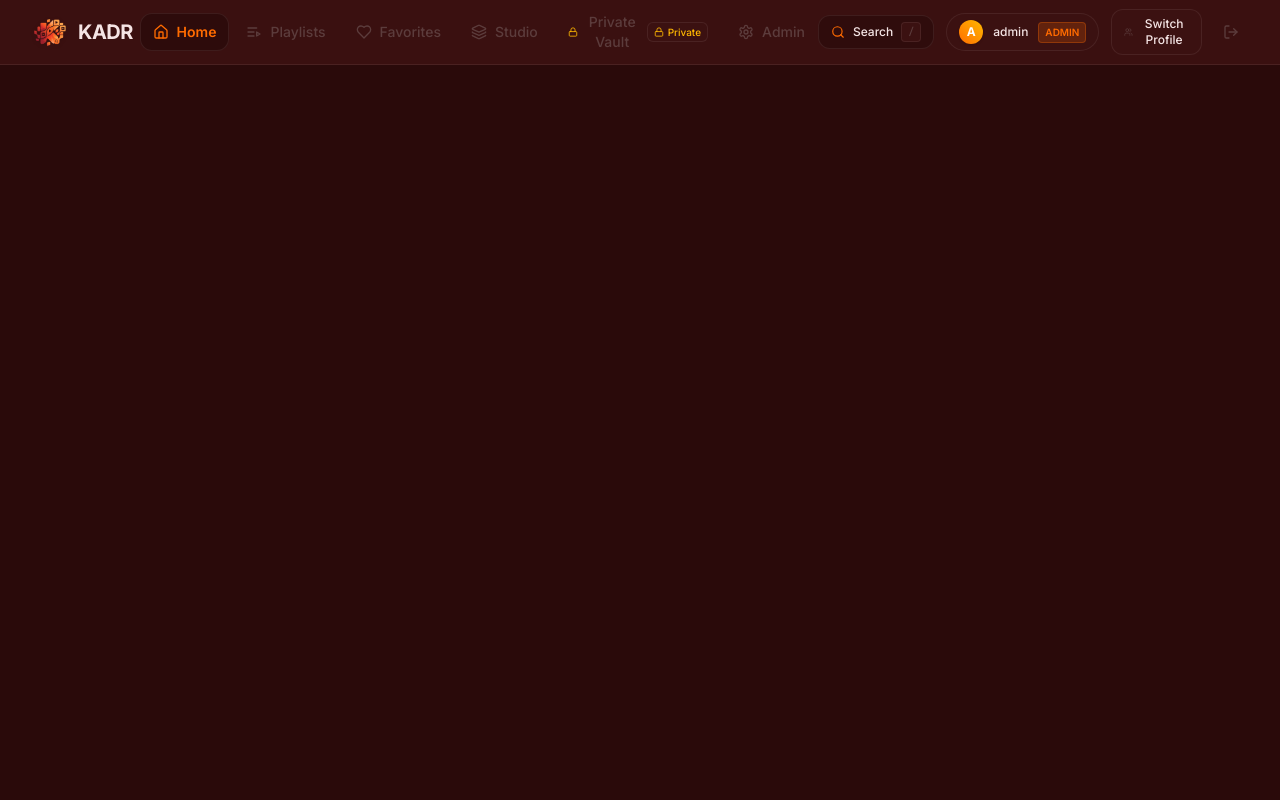
Test: App Shell › unlocks private library with PIN, saves token to session storage, and displays library contents
Click the button "Private Vault Private".
click(638, 32)  # box [555,3,721,61]
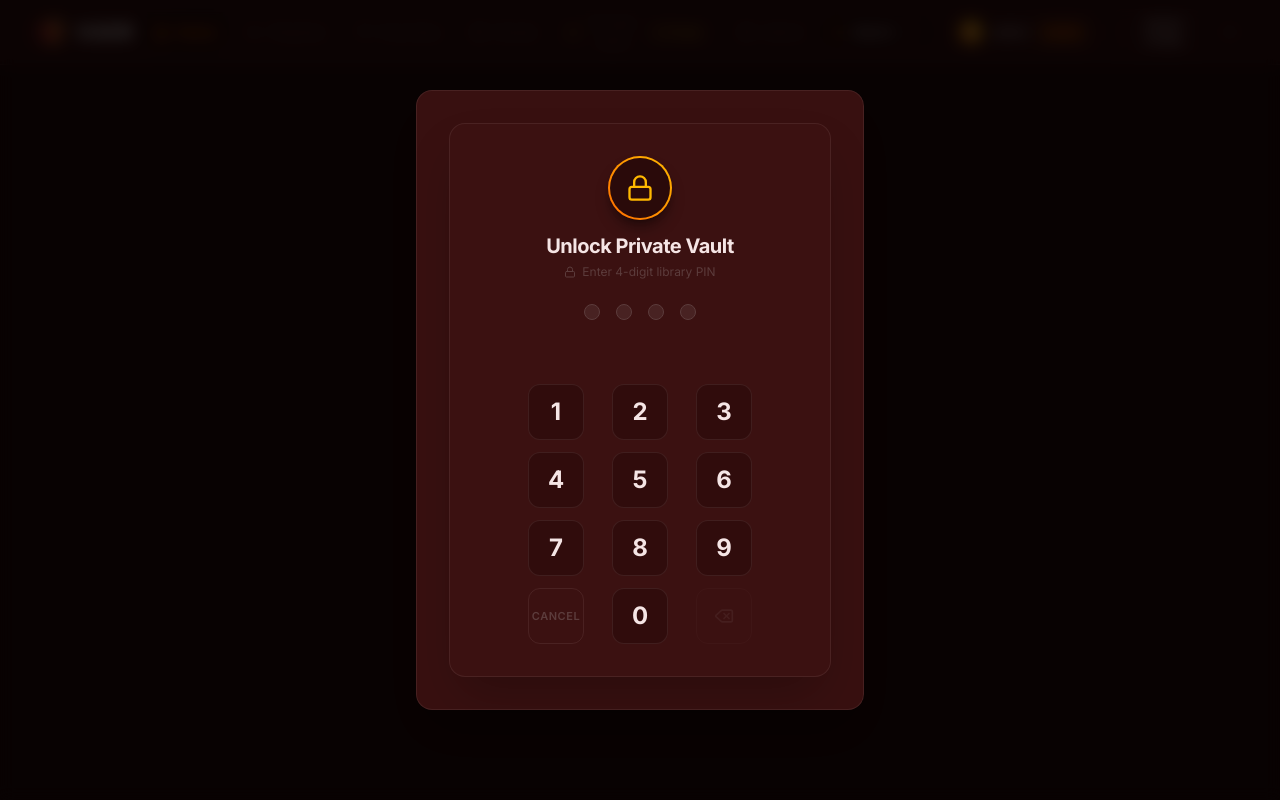
Expected: the heading "Unlock Private Vault" is shown, [546,232,734,260]
Click the button "1".
click(556, 412)  # box [528,384,584,440]
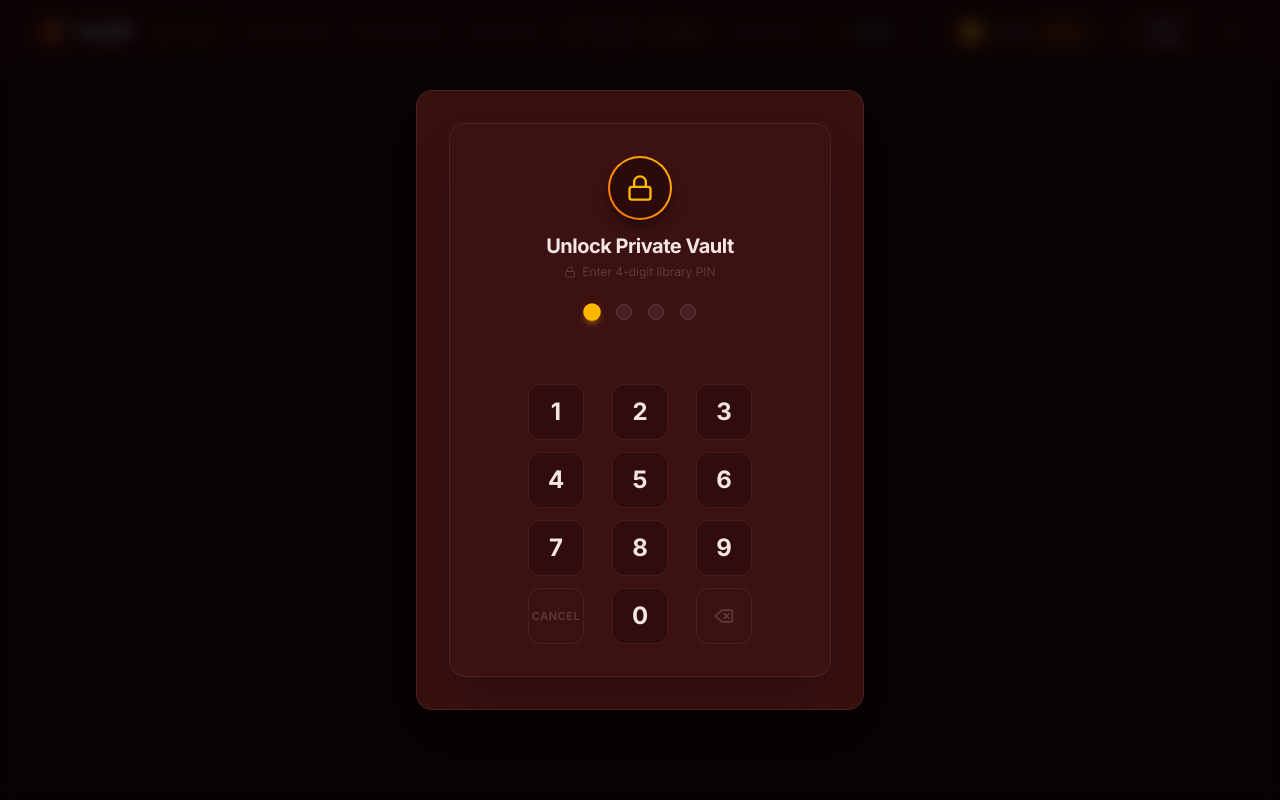
Click the button "2".
click(640, 412)  # box [612,384,668,440]
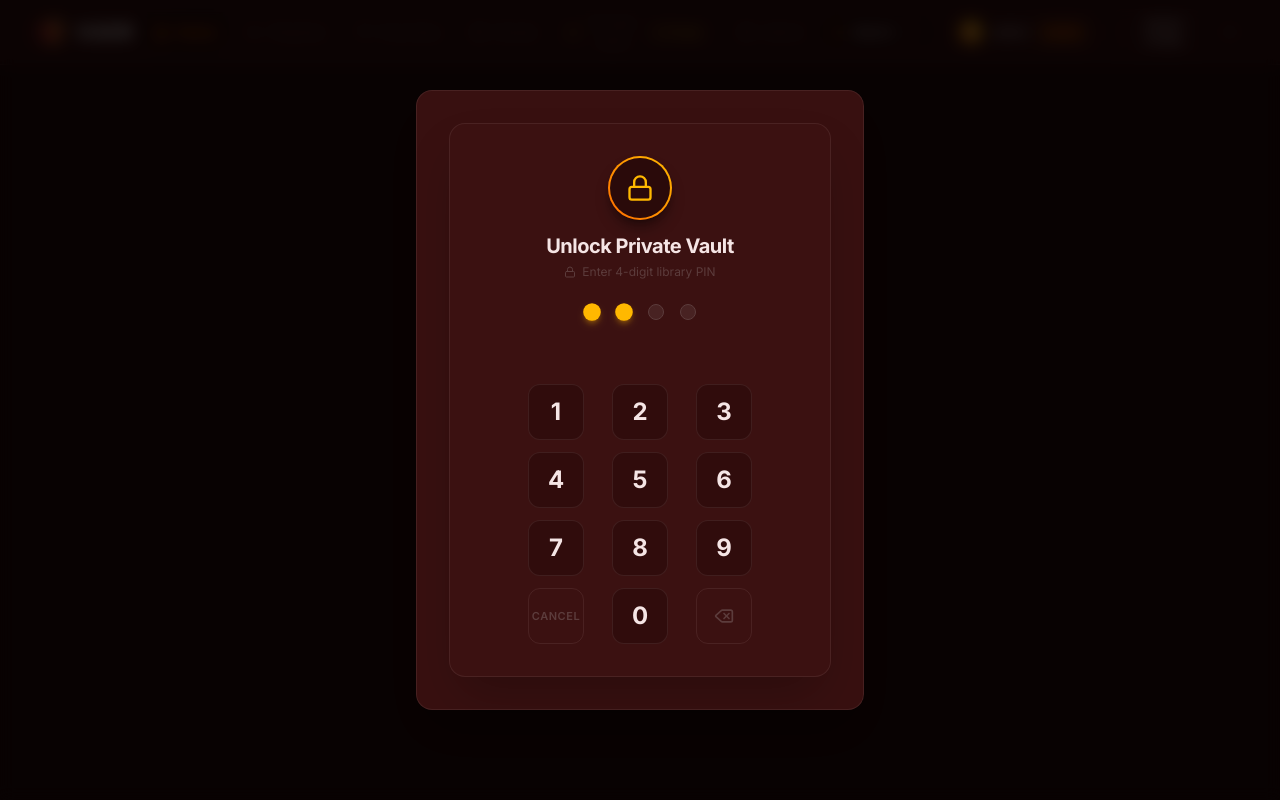
Click the button "3".
click(724, 412)  # box [696,384,752,440]
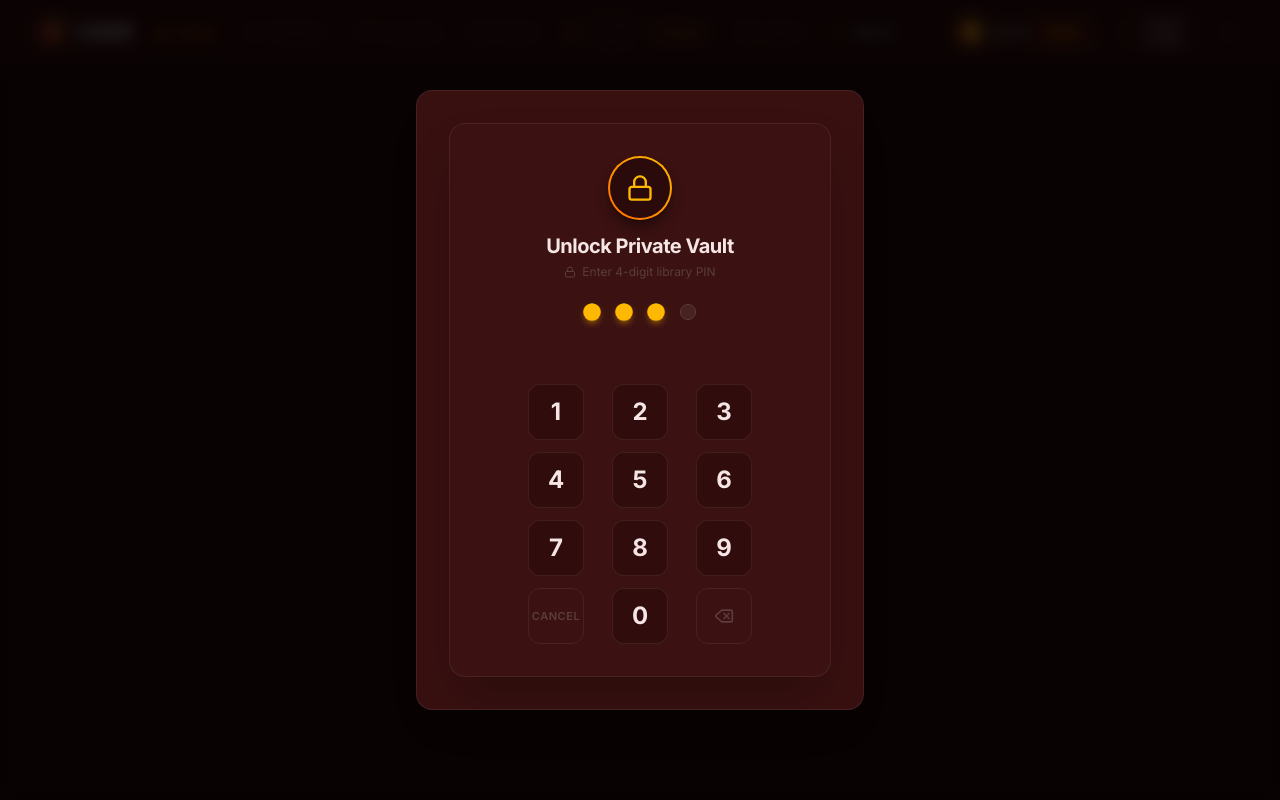
Click the button "4".
click(556, 480)  # box [528,452,584,508]
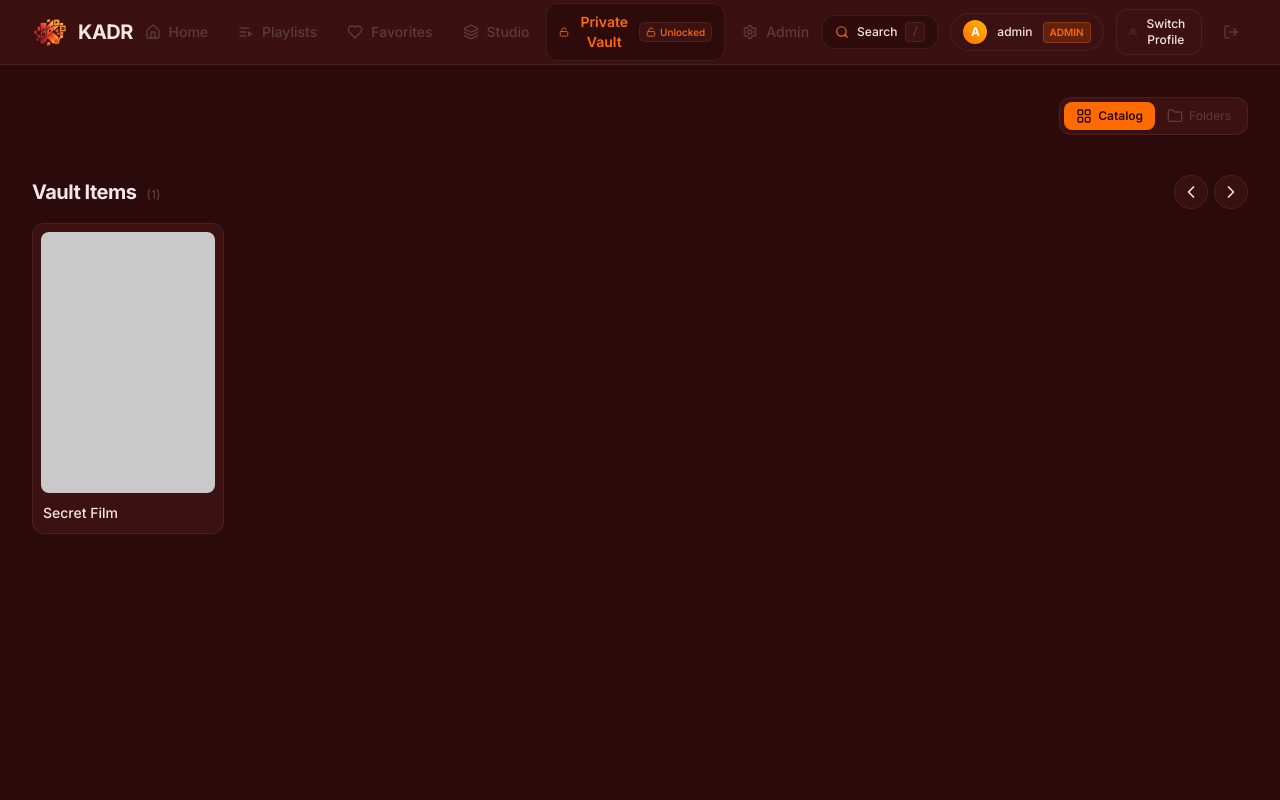
Expected: the heading "Vault Items" is shown, [32,178,136,206]
